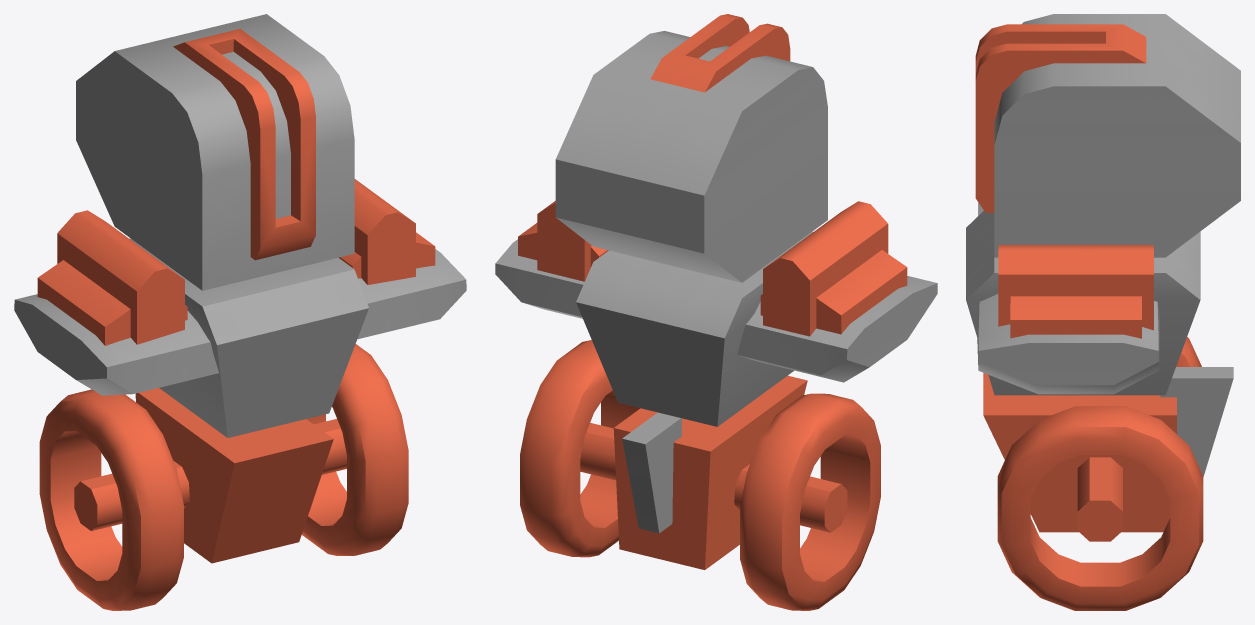
The model's file is player.fbx.
The picture shows the model from 3 angles, left to right: view 1: azimuth 30°, elevation 25°; view 2: azimuth 150°, elevation 25°; view 3: azimuth 270°, elevation 25°; orthographic projection. The views are drawn at different scales.
Visible parts, largest first — view 1: player; view 2: player; view 3: player.
Part boxes in pixels (x1,y1,x2,y2): player: (14,14,466,610); player: (495,14,937,610); player: (966,14,1240,610).
Bounding box in the file's own units: 1.51 × 2.11 × 1.02.
